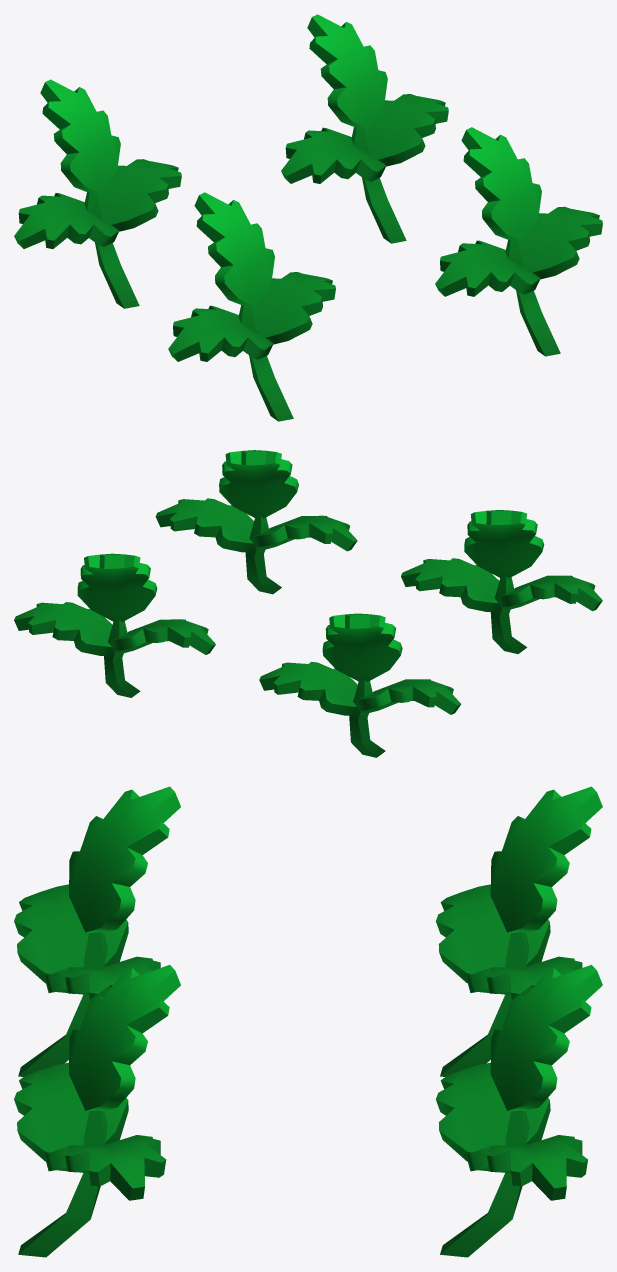
Rendered from Farm_Crop_Eggplant_Step_01.fbx.
3 views of the same model, one above another, from view 1: azimuth 30°, elevation 25°; view 2: azimuth 150°, elevation 25°; view 3: azimuth 270°, elevation 25° (orthographic). The views are drawn at different scales.
Parts seen in each view (by area): view 1: Farm_Crop_Eggplant_Step_01; view 2: Farm_Crop_Eggplant_Step_01; view 3: Farm_Crop_Eggplant_Step_01.
Boxes of the visible parts, x1=… form: Farm_Crop_Eggplant_Step_01: x1=14, y1=14, x2=602, y2=421; Farm_Crop_Eggplant_Step_01: x1=14, y1=450, x2=602, y2=757; Farm_Crop_Eggplant_Step_01: x1=14, y1=786, x2=602, y2=1257.
Size of the model in its own units: 171 by 69.45 by 140.
